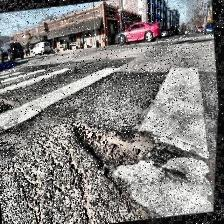pothole: (69, 112, 151, 186)
